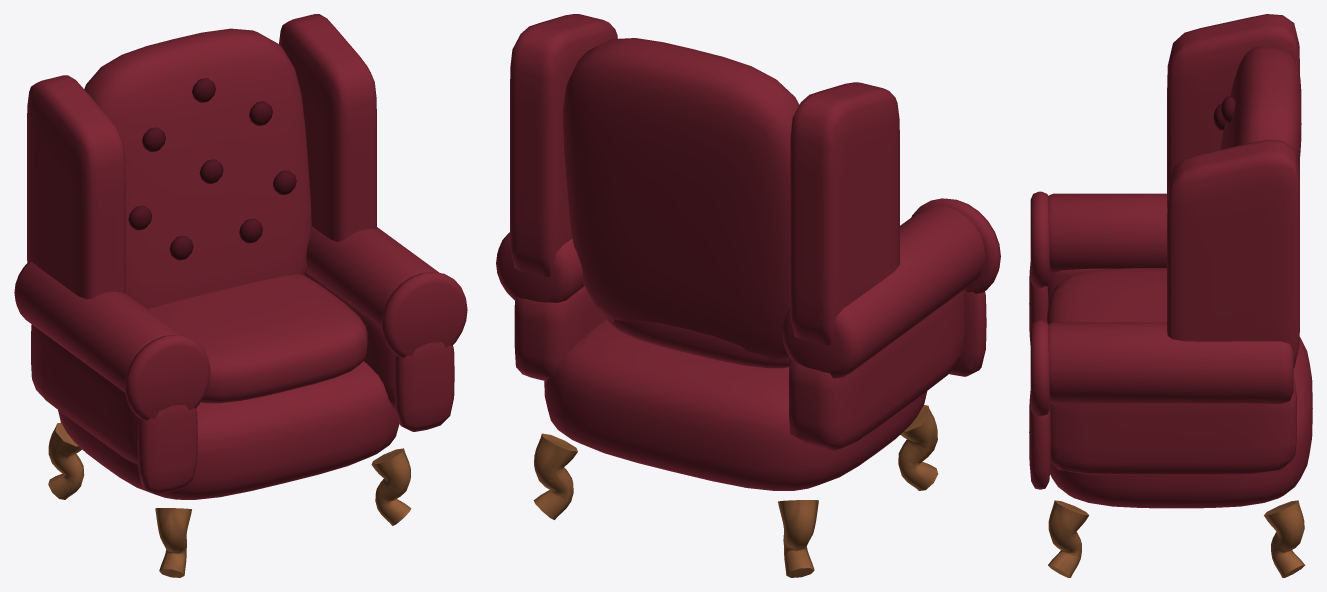
File: wingback_armchair.glb
3 renders of one model, left to right at view 1: azimuth 30°, elevation 25°; view 2: azimuth 150°, elevation 25°; view 3: azimuth 270°, elevation 25°, orthographic. The views are drawn at different scales.
Parts seen in each view (by area): view 1: wingback_armchair; view 2: wingback_armchair; view 3: wingback_armchair.
Boxes of the visible parts, x1,y1,x2,y2 form: wingback_armchair: (14, 14, 467, 577); wingback_armchair: (496, 14, 1000, 577); wingback_armchair: (1029, 14, 1312, 577).
Size of the model in its own units: 1.14 by 1.4 by 0.8017.
Materials: 3 (1 with a texture image).
